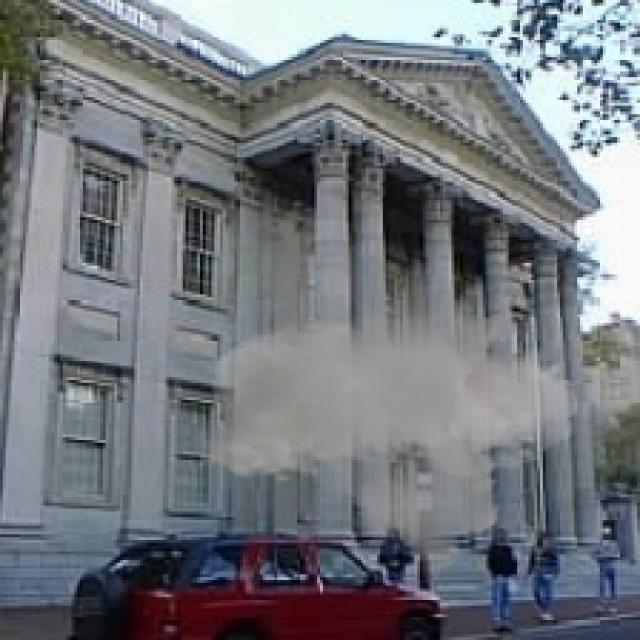smoke: (194, 197, 580, 583)
